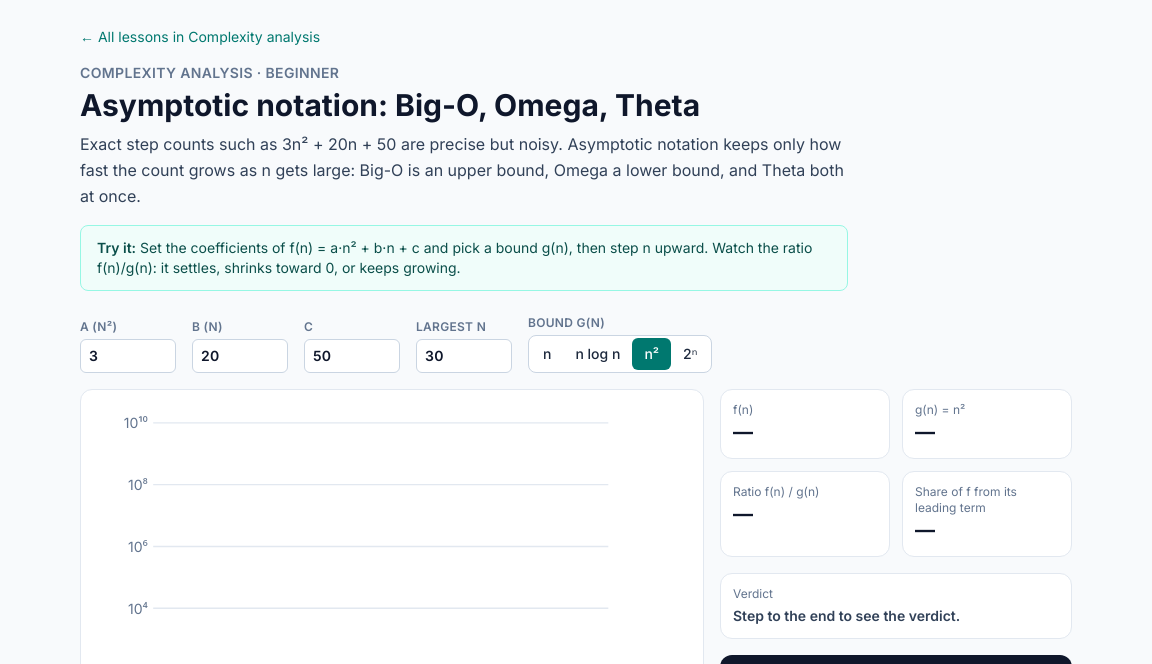
Test: asymptotic notation lesson › gives O only against 2ⁿ and Ω only against n log n
Click the radio button labelled "2ⁿ" at (690, 354), box [683, 345, 697, 362]
(page scrolled)
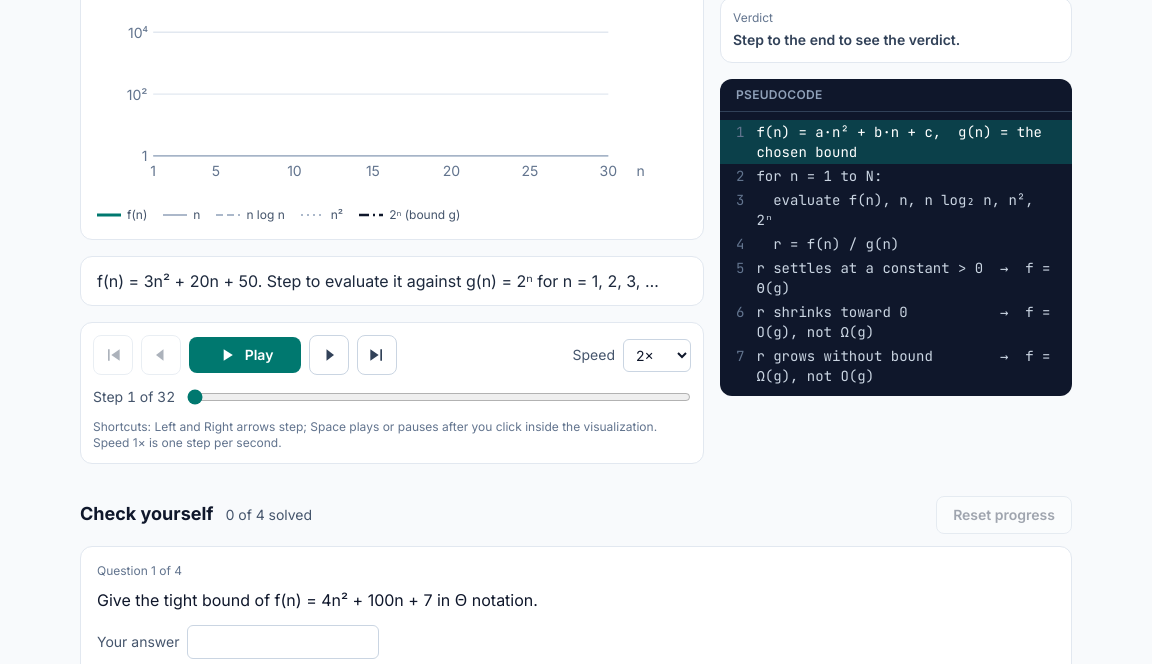
Click the button named "Last step" at (377, 355), box [357, 335, 397, 375]
(page scrolled)
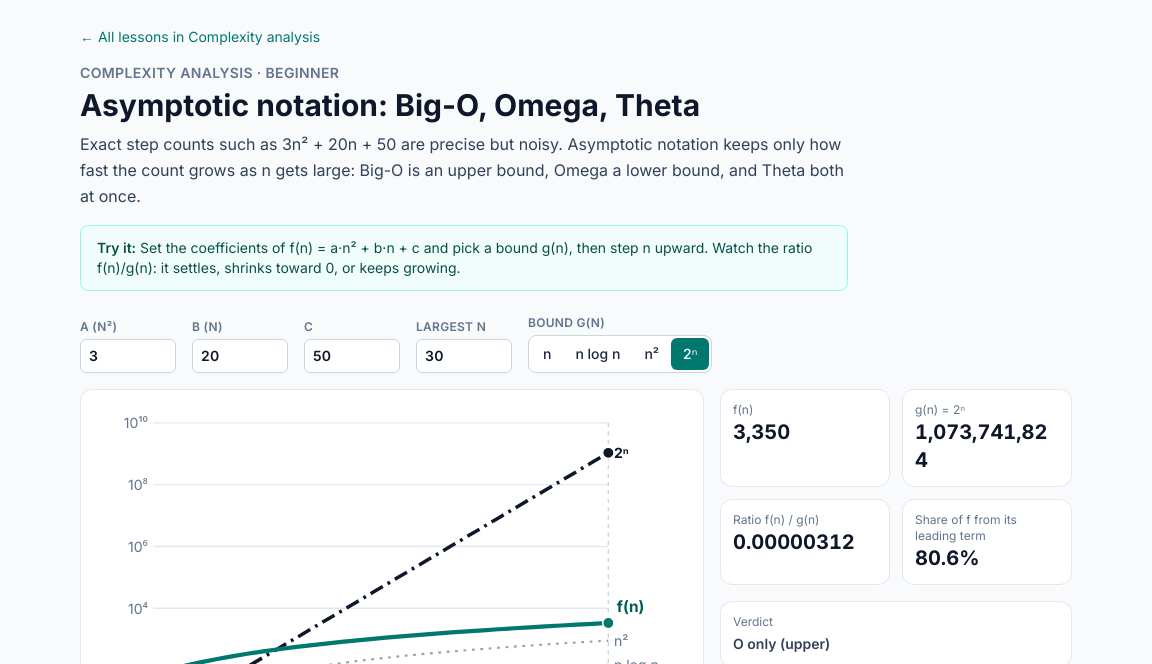
Click the radio button labelled "n log n" at (598, 354), box [575, 345, 620, 362]
(page scrolled)
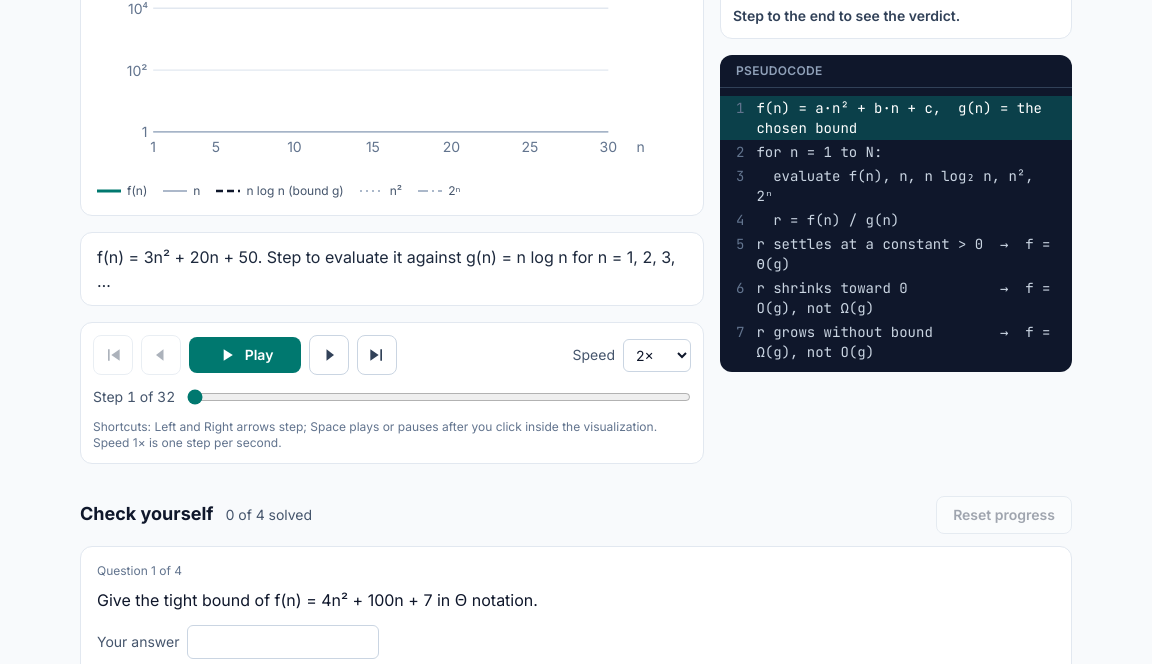
Click the button named "Last step" at (377, 355), box [357, 335, 397, 375]
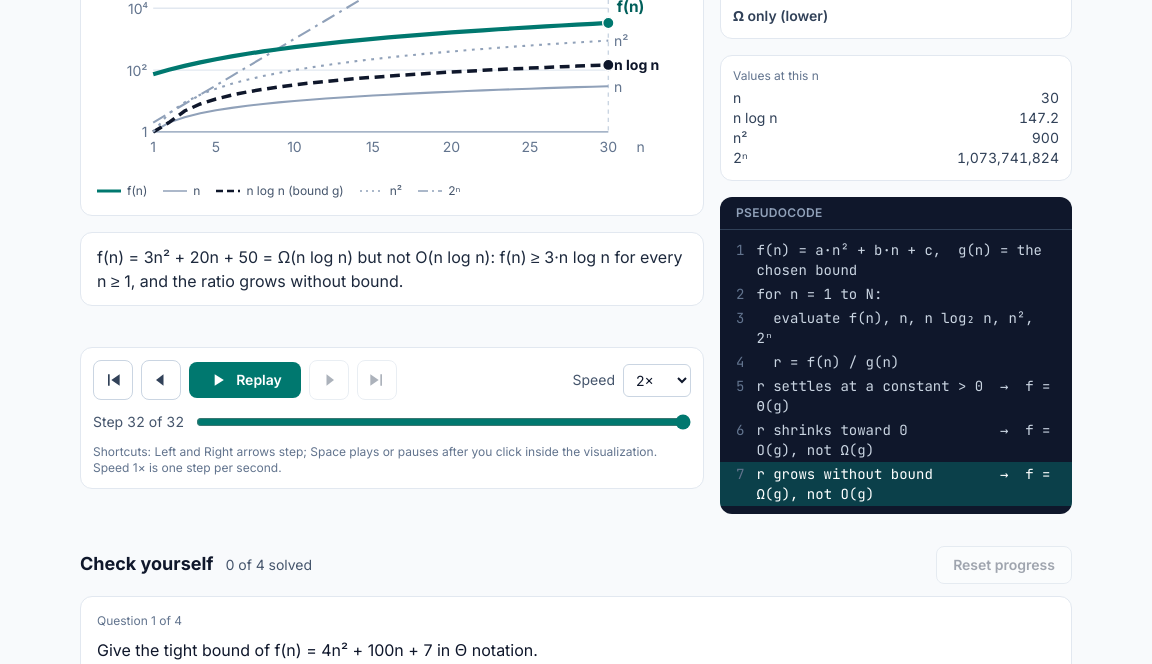
expect the text "Ω(n log n) but not O(n log n)" is shown: met, box [97, 247, 682, 291]
